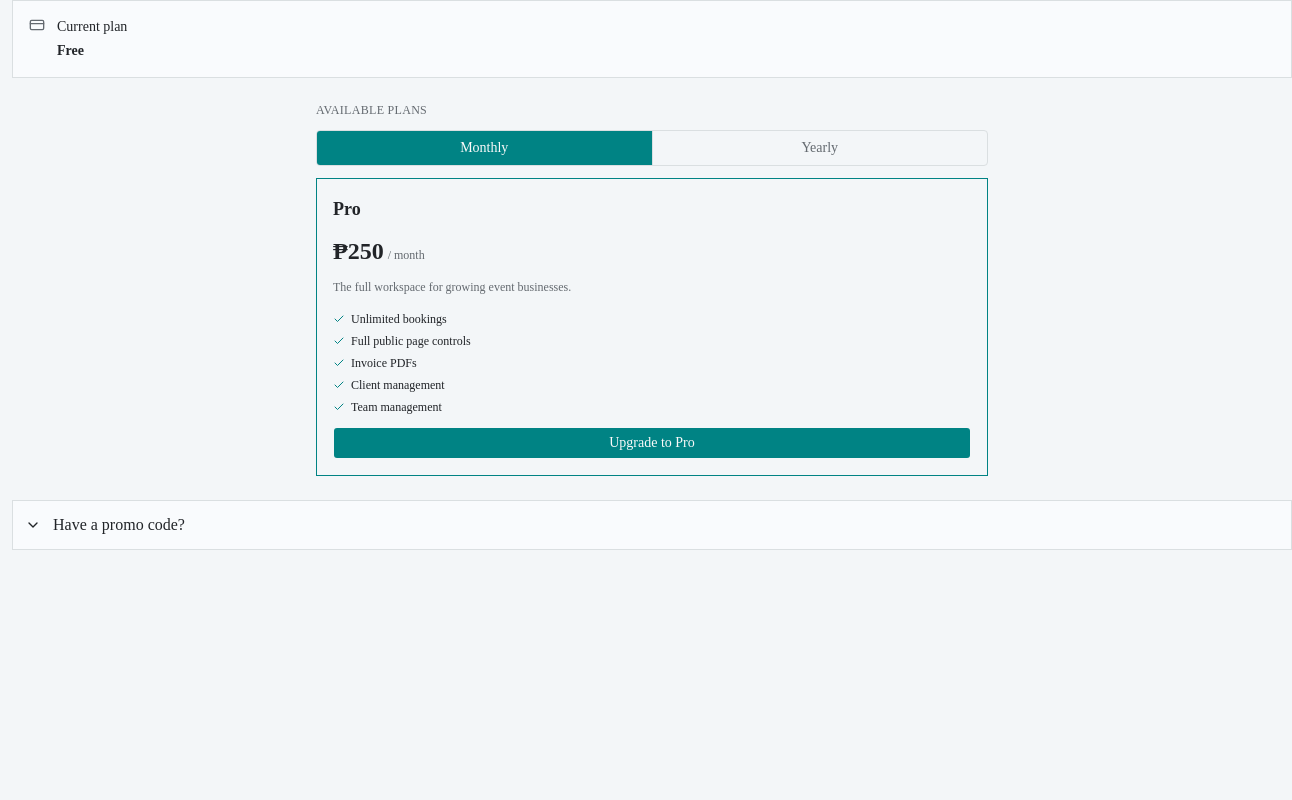
it: BillingPanel — upgrade checkout › shows an inline error when checkout API fails
Click the button with aria-label "upgrade to the pro plan": point(652, 443) [333,427,971,459]
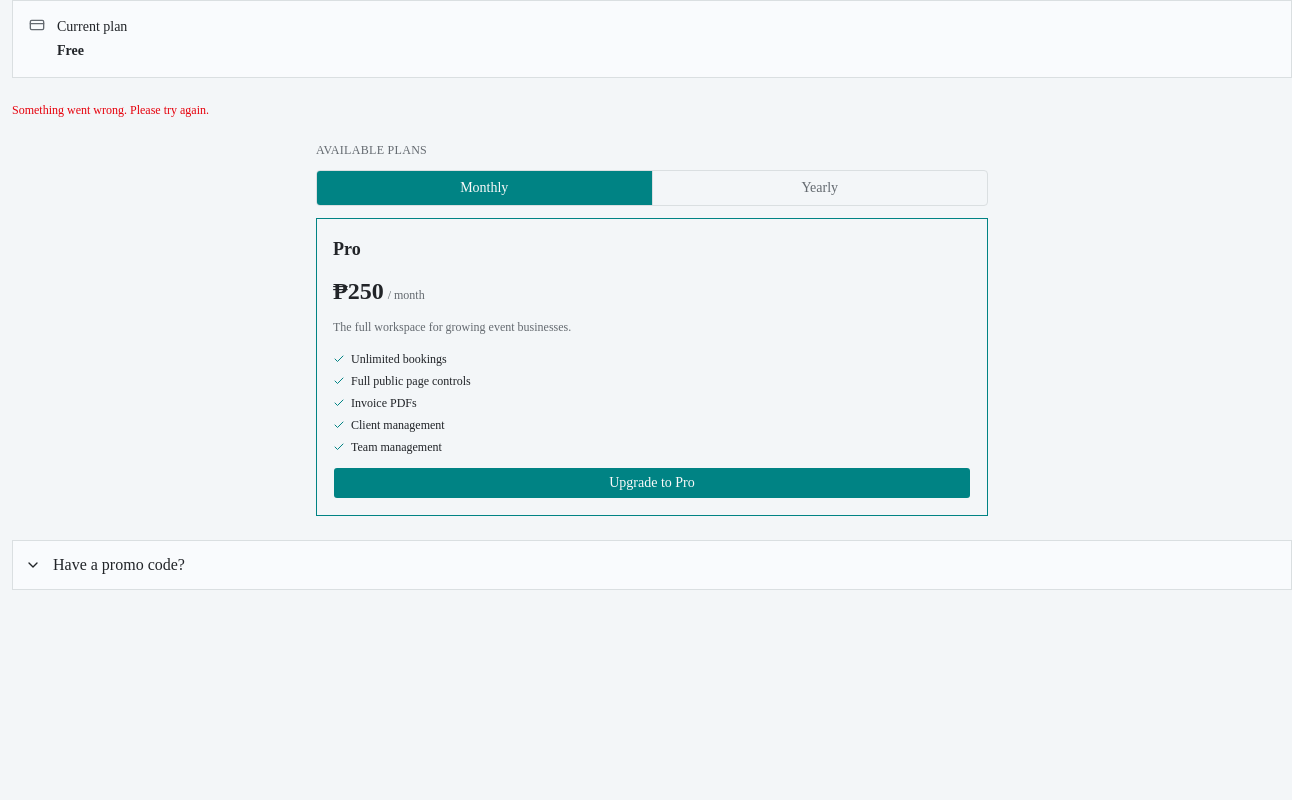
Now the message "Something went wrong. Please try again." is shown, box [12,103,209,117]
